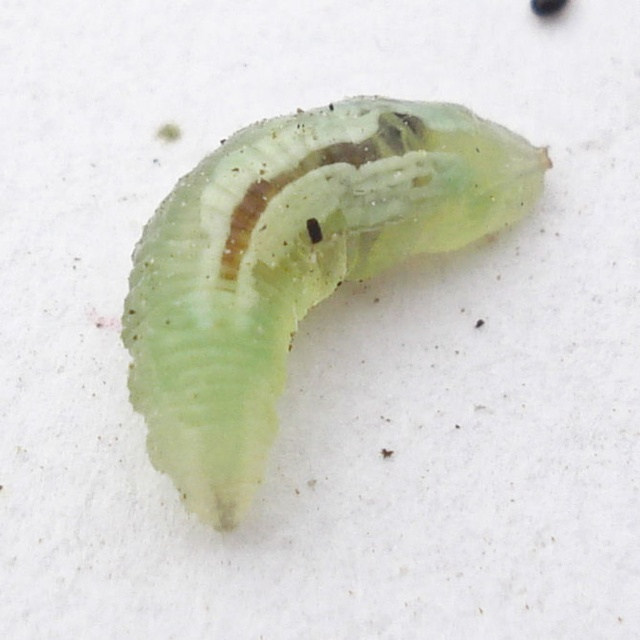Caterpillar: (115, 93, 554, 537)
